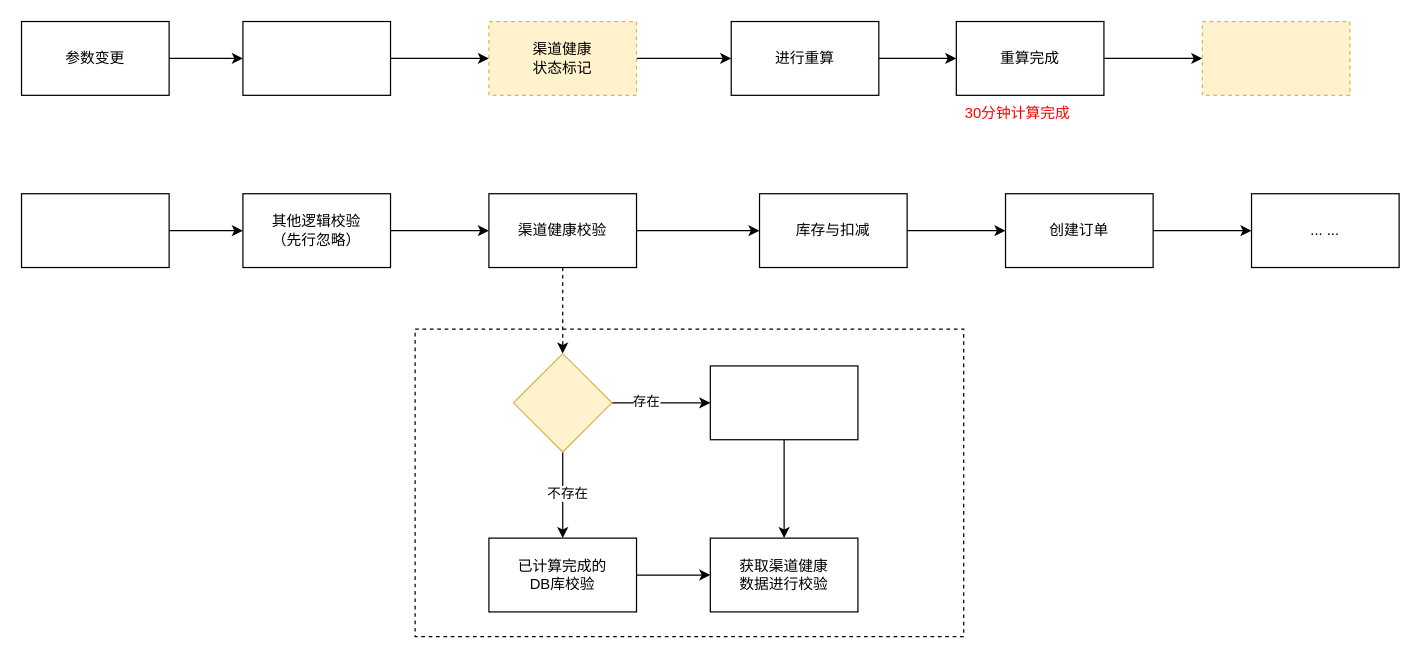
Some shapes in this 1421 by 658 pixel diagram are drawn without their labels. The shapes that lost their labels are listed below. From the top down, each one's centre as x and y in pixels, then its label:
At (x=316, y=57): "触发渠道健康重算".
At (x=1275, y=57): "渠道健康 状态标记删除".
At (x=94, y=230): "下单".
At (x=562, y=402): "渠道健康 状态标记 是否存在？".
At (x=783, y=402): "实时计算".
